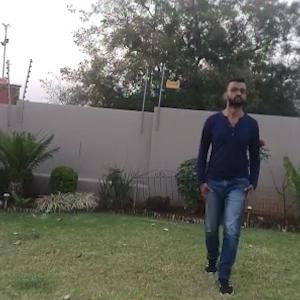follow: (182, 69, 260, 286)
